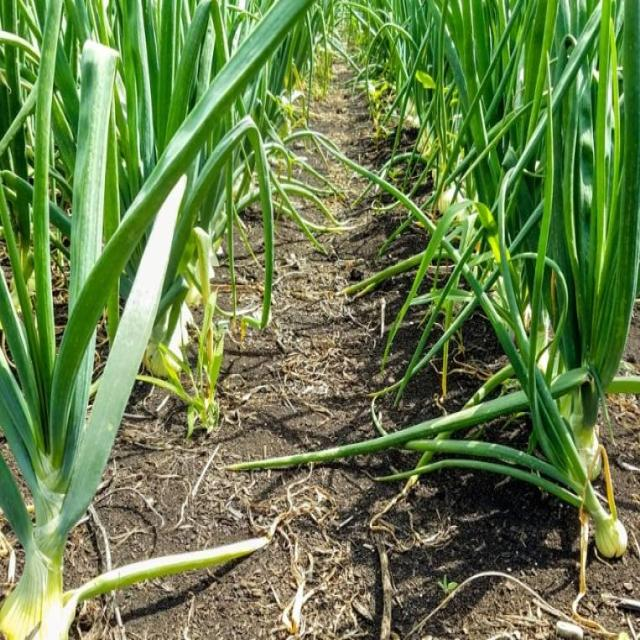row: (76, 30, 530, 640)
